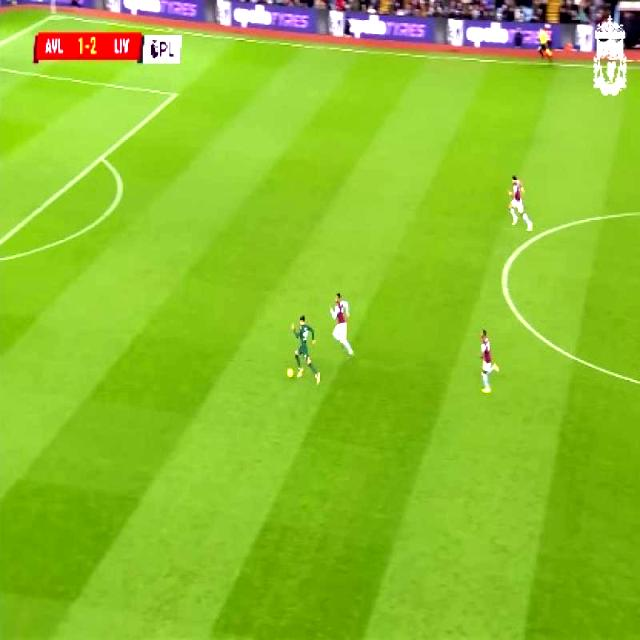bigarea_top_inner: (166, 83, 184, 105)
corner: (45, 6, 65, 24)
top_arc_area_intersection: (92, 146, 110, 168)
